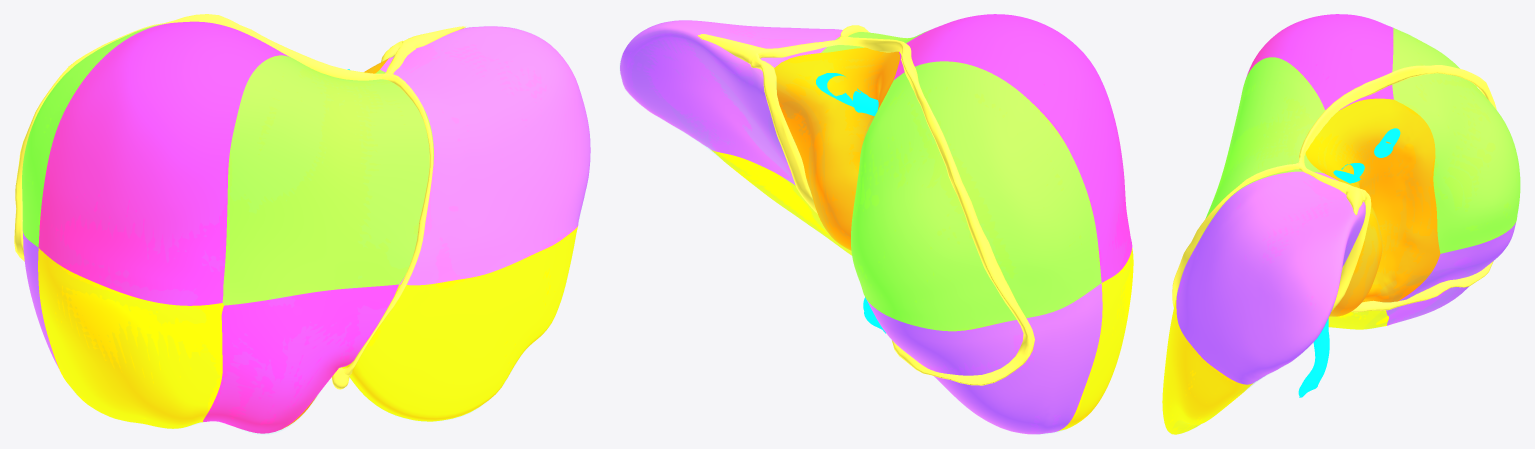
Rendered from leber-female.glb.
3 views of the same model, side by side, from view 1: azimuth 30°, elevation 25°; view 2: azimuth 150°, elevation 25°; view 3: azimuth 270°, elevation 25° (orthographic). The views are drawn at different scales.
Parts seen in each view (by area): view 1: 0:13:VH_F_right_anterosuperior_segment, 0:8:VH_F_left_superomedial_segment1, 0:4:VH_F_left_superomedial_segment, 0:3:VH_F_left_anterolateral_segment, 0:12:VH_F_right_anteroinferior_segment, 0:7:VH_F_left_inferomedial_segment, 0:15:VH_F_right_posterosuperior_segment, 0:22:VH_F_coronary_ligament_of_liver, 0:23:VH_F_falciform_ligament, 0:14:VH_F_right_posteroinferior_segment, 0:27:VH_F_triangular_ligament_of_liver; view 2: 0:15:VH_F_right_posterosuperior_segment, 0:13:VH_F_right_anterosuperior_segment, 0:4:VH_F_left_superomedial_segment, 0:14:VH_F_right_posteroinferior_segment, 0:11:VH_F_caudate_lobe, 0:22:VH_F_coronary_ligament_of_liver, 0:12:VH_F_right_anteroinferior_segment, 0:3:VH_F_left_anterolateral_segment, 0:25:VH_F_ligamentum_venosum, 0:27:VH_F_triangular_ligament_of_liver, 0:8:VH_F_left_superomedial_segment1; view 3: 0:4:VH_F_left_superomedial_segment, 0:11:VH_F_caudate_lobe, 0:15:VH_F_right_posterosuperior_segment, 0:8:VH_F_left_superomedial_segment1, 0:13:VH_F_right_anterosuperior_segment, 0:3:VH_F_left_anterolateral_segment, 0:22:VH_F_coronary_ligament_of_liver, 0:14:VH_F_right_posteroinferior_segment, 0:23:VH_F_falciform_ligament, 0:25:VH_F_ligamentum_venosum, 1:0:VH_F_hepatic_portal_vein, 0:12:VH_F_right_anteroinferior_segment (+2 smaller).
Boxes of the visible parts, left/top/right/bottom form: 0:13:VH_F_right_anterosuperior_segment: left=38, top=21, right=288, bottom=305; 0:8:VH_F_left_superomedial_segment1: left=222, top=55, right=433, bottom=305; 0:4:VH_F_left_superomedial_segment: left=380, top=26, right=590, bottom=285; 0:3:VH_F_left_anterolateral_segment: left=341, top=226, right=577, bottom=421; 0:12:VH_F_right_anteroinferior_segment: left=38, top=248, right=223, bottom=428; 0:7:VH_F_left_inferomedial_segment: left=203, top=284, right=398, bottom=433; 0:15:VH_F_right_posterosuperior_segment: left=22, top=24, right=162, bottom=247; 0:22:VH_F_coronary_ligament_of_liver: left=14, top=14, right=413, bottom=261; 0:23:VH_F_falciform_ligament: left=344, top=73, right=433, bottom=375; 0:14:VH_F_right_posteroinferior_segment: left=22, top=230, right=60, bottom=371; 0:27:VH_F_triangular_ligament_of_liver: left=401, top=26, right=465, bottom=49; 0:15:VH_F_right_posterosuperior_segment: left=851, top=61, right=1101, bottom=331; 0:13:VH_F_right_anterosuperior_segment: left=894, top=14, right=1132, bottom=282; 0:4:VH_F_left_superomedial_segment: left=620, top=20, right=842, bottom=185; 0:14:VH_F_right_posteroinferior_segment: left=866, top=283, right=1102, bottom=434; 0:11:VH_F_caudate_lobe: left=774, top=47, right=899, bottom=250; 0:22:VH_F_coronary_ligament_of_liver: left=767, top=36, right=1034, bottom=385; 0:12:VH_F_right_anteroinferior_segment: left=1057, top=248, right=1133, bottom=431; 0:3:VH_F_left_anterolateral_segment: left=710, top=149, right=851, bottom=255; 0:25:VH_F_ligamentum_venosum: left=751, top=53, right=817, bottom=213; 0:27:VH_F_triangular_ligament_of_liver: left=697, top=34, right=772, bottom=65; 0:8:VH_F_left_superomedial_segment1: left=821, top=30, right=929, bottom=52; 0:4:VH_F_left_superomedial_segment: left=1176, top=171, right=1365, bottom=384; 0:11:VH_F_caudate_lobe: left=1305, top=98, right=1440, bottom=316; 0:15:VH_F_right_posterosuperior_segment: left=1392, top=28, right=1520, bottom=253; 0:8:VH_F_left_superomedial_segment1: left=1199, top=57, right=1325, bottom=240; 0:13:VH_F_right_anterosuperior_segment: left=1247, top=14, right=1393, bottom=110; 0:3:VH_F_left_anterolateral_segment: left=1162, top=295, right=1253, bottom=434; 0:22:VH_F_coronary_ligament_of_liver: left=1298, top=65, right=1496, bottom=312; 0:14:VH_F_right_posteroinferior_segment: left=1386, top=223, right=1515, bottom=325; 0:23:VH_F_falciform_ligament: left=1172, top=162, right=1298, bottom=307; 0:25:VH_F_ligamentum_venosum: left=1331, top=189, right=1371, bottom=311; 1:0:VH_F_hepatic_portal_vein: left=1298, top=318, right=1329, bottom=397; 0:12:VH_F_right_anteroinferior_segment: left=1328, top=310, right=1388, bottom=329.
Bounding box in the file's own units: 0.2471 × 0.17 × 0.1663.
